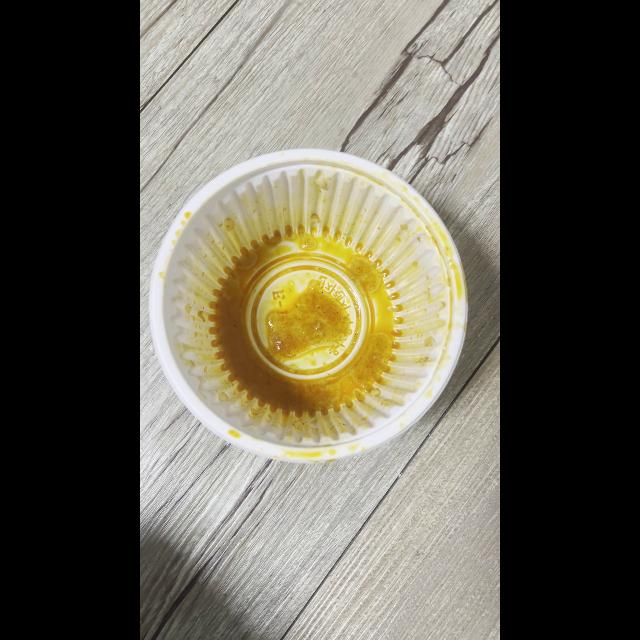dirty: (155, 157, 473, 465)
